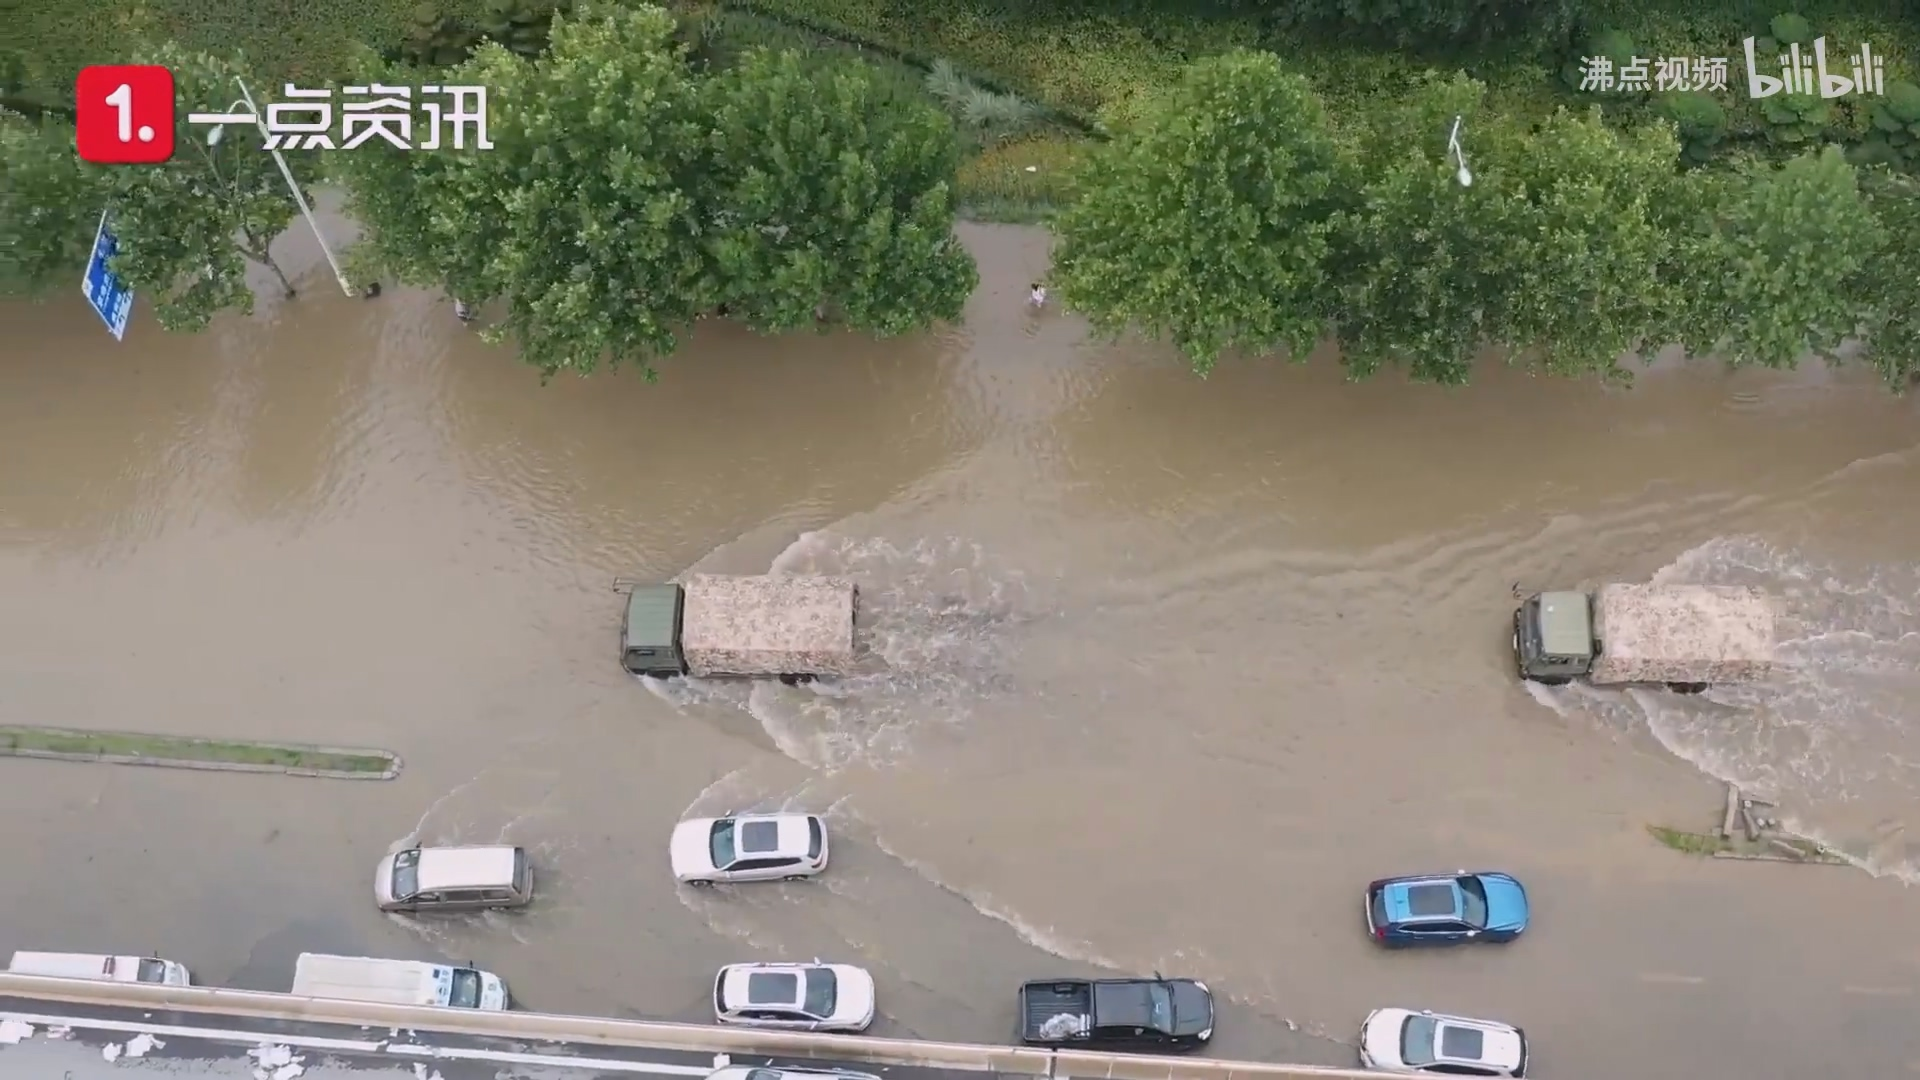puddle: (18, 266, 1883, 1080)
